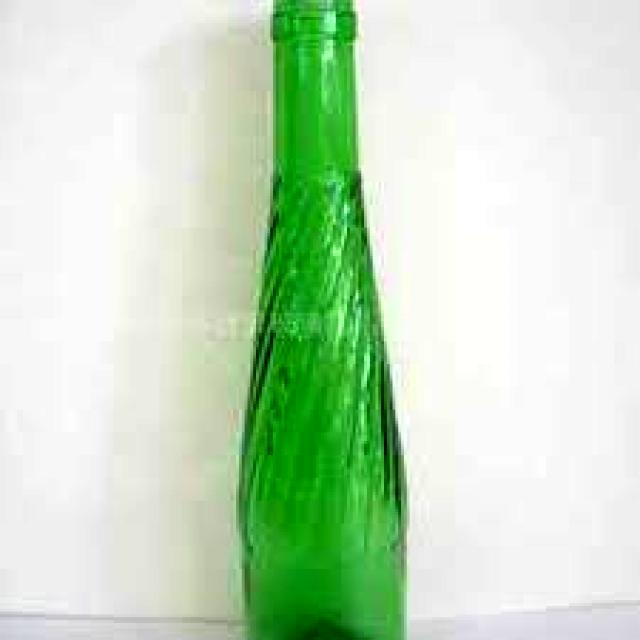Glass: (236, 0, 415, 640)
